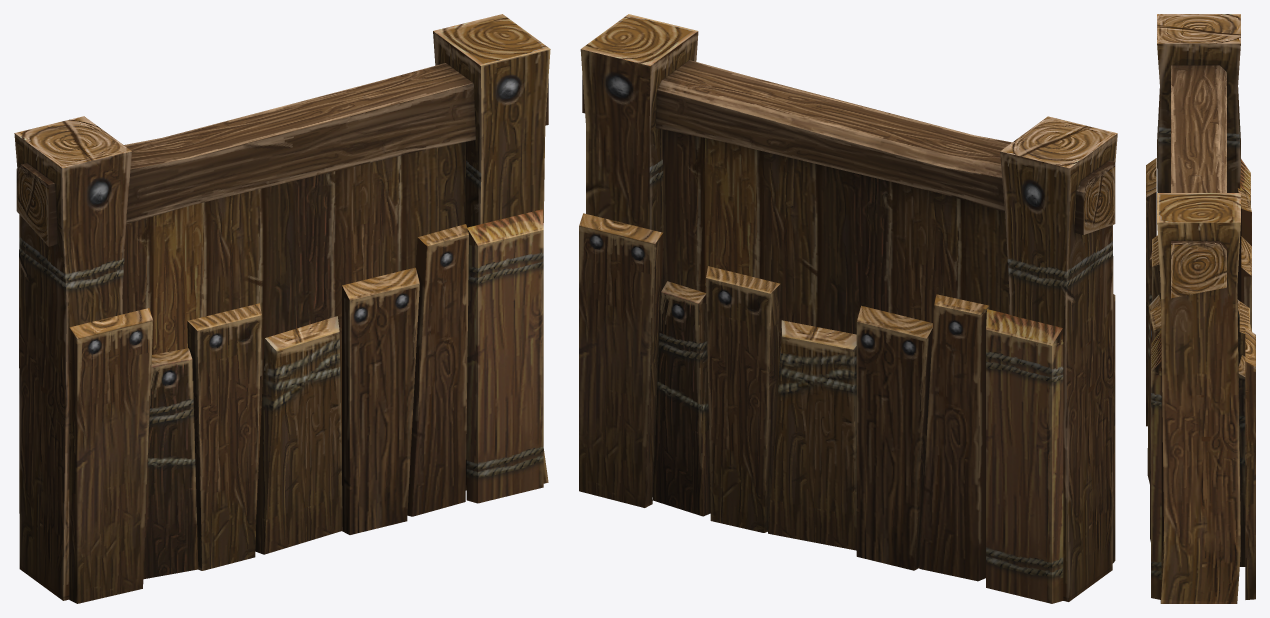
Rendered from Wall_wood_el2.fbx.
3 renders of one model, left to right at view 1: azimuth 30°, elevation 25°; view 2: azimuth 150°, elevation 25°; view 3: azimuth 270°, elevation 25°, orthographic. The views are drawn at different scales.
Visible parts, largest first — view 1: towers2_2; view 2: towers2_2; view 3: towers2_2.
Part boxes in pixels (left/top/right/bottom): towers2_2: left=14, top=14, right=550, bottom=603; towers2_2: left=579, top=14, right=1117, bottom=603; towers2_2: left=1146, top=14, right=1255, bottom=603.
Size of the model in its own units: 2.45 by 2.05 by 0.5327.
